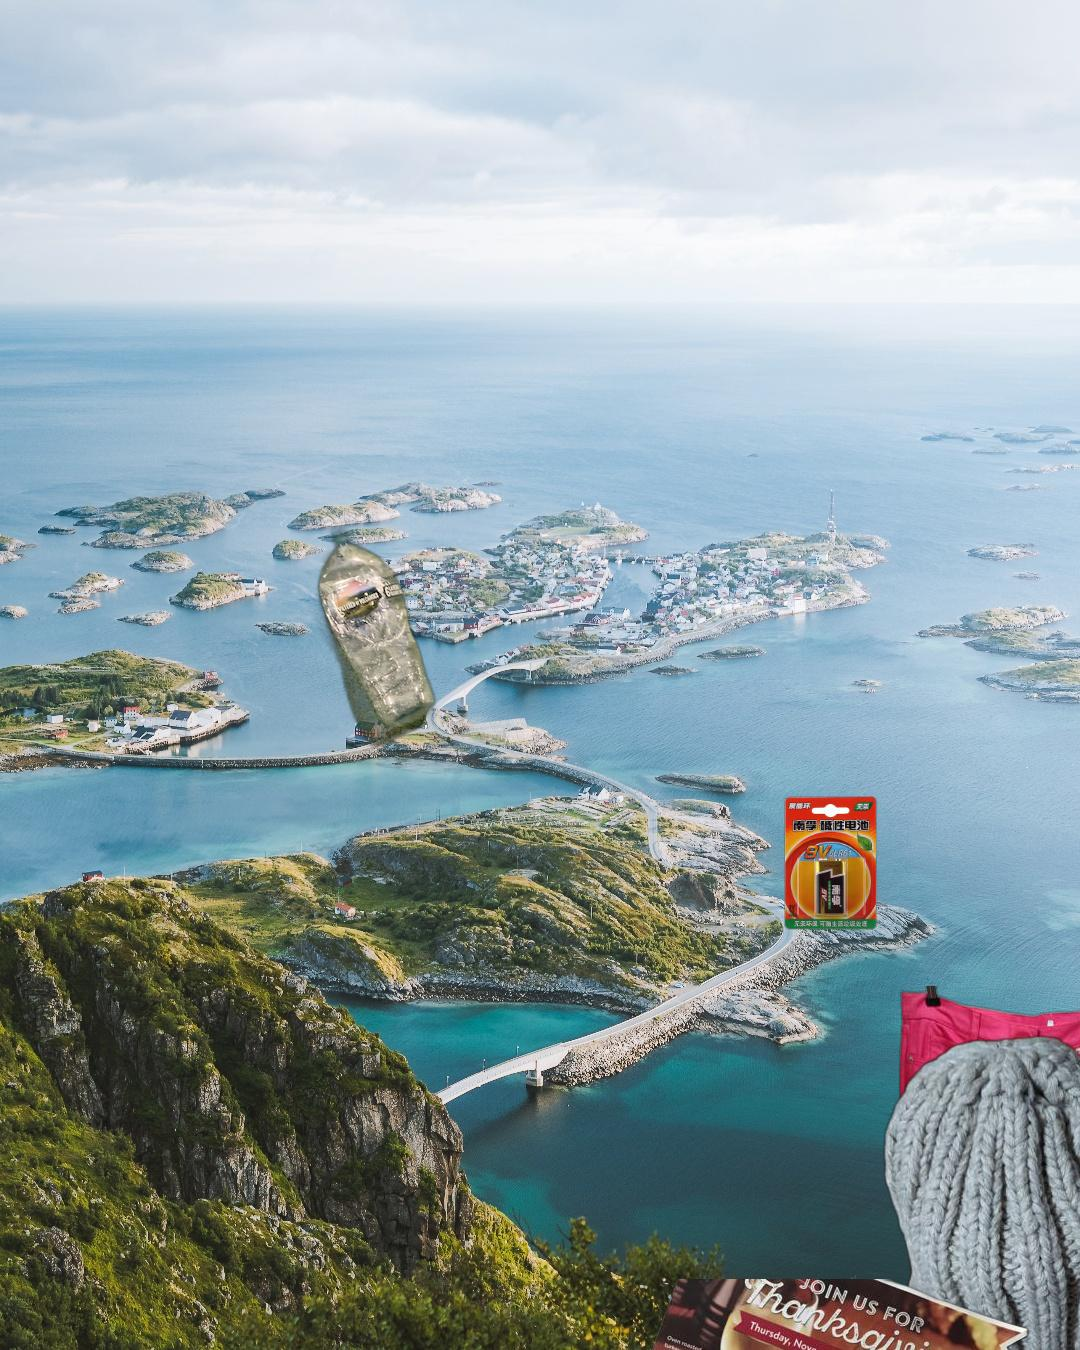battery: (782, 793, 881, 932)
clothes: (896, 986, 1080, 1350), (881, 1032, 1080, 1350)
paper: (594, 1279, 1036, 1350)
plastic-bottles: (311, 523, 566, 1019)
